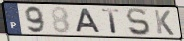8: (51, 5, 72, 35)
9: (23, 5, 47, 34)
A: (75, 8, 102, 34)
K: (153, 9, 176, 37)
S: (125, 7, 152, 37)
T: (101, 9, 122, 35)
